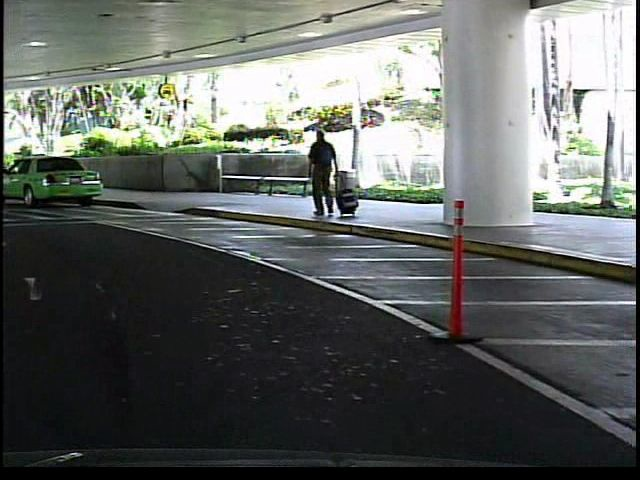person: (299, 124, 340, 225)
